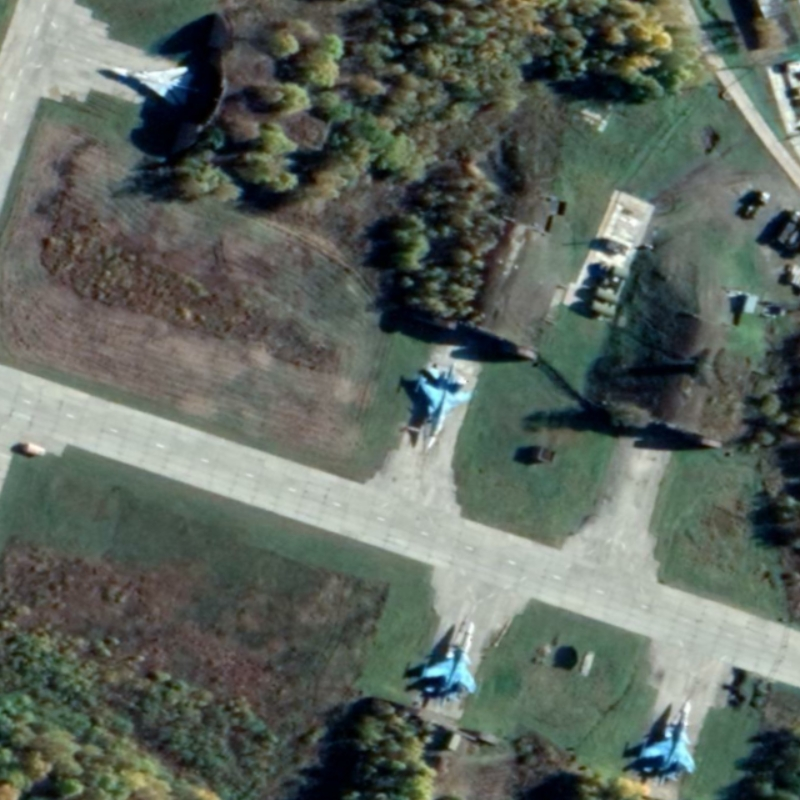A19: (417, 620, 485, 710), (413, 361, 479, 450), (637, 700, 702, 788)
A20: (110, 65, 195, 109)
